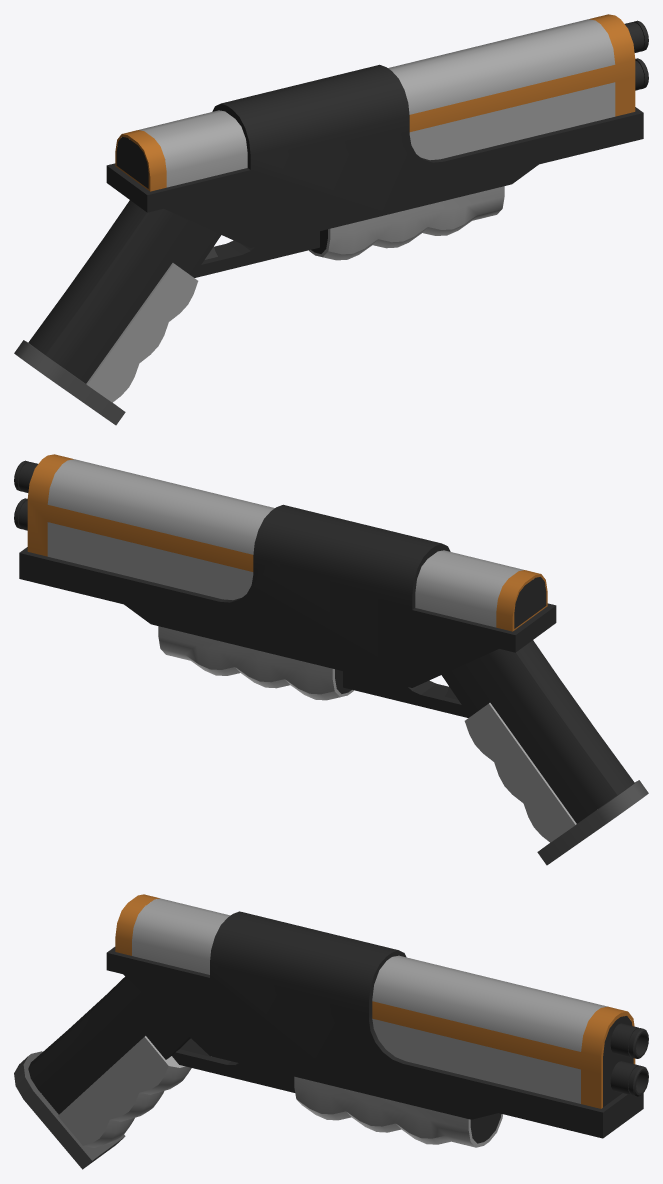
Rendered from weapon_blaster.glb.
3 views of the same model, one above another, from view 1: azimuth 30°, elevation 25°; view 2: azimuth 150°, elevation 25°; view 3: azimuth 330°, elevation 25° (orthographic).
Parts seen in each view (by area): view 1: Pistol_2; view 2: Pistol_2; view 3: Pistol_2.
Boxes of the visible parts, box(x1,y1,x2,y2) form: Pistol_2: box(14, 14, 648, 425); Pistol_2: box(14, 454, 648, 865); Pistol_2: box(14, 894, 648, 1169).
Bounding box in the file's own units: 0.9899 × 0.4161 × 0.1124.
